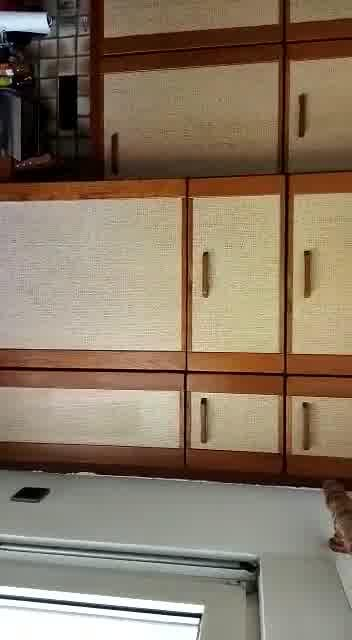cabinet_door: (0, 200, 185, 363), (95, 48, 283, 176), (188, 185, 286, 367), (0, 373, 185, 465), (287, 180, 351, 377), (95, 0, 294, 51), (185, 378, 284, 477), (286, 384, 351, 481)
handle: (295, 246, 319, 304), (291, 88, 315, 146), (296, 390, 316, 454), (197, 246, 216, 305), (198, 390, 214, 451), (108, 128, 124, 179)
